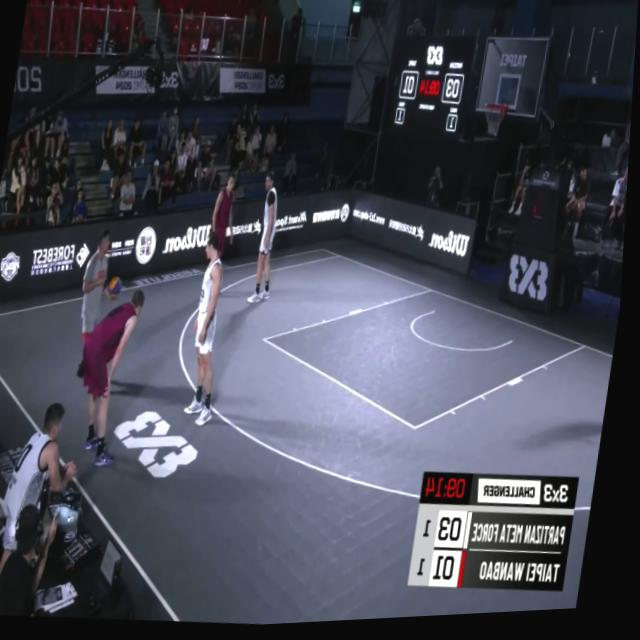ball: (109, 272, 128, 300)
hoop: (480, 103, 508, 144)
player: (72, 283, 153, 472), (185, 231, 240, 427), (250, 170, 290, 307), (208, 174, 243, 265)
